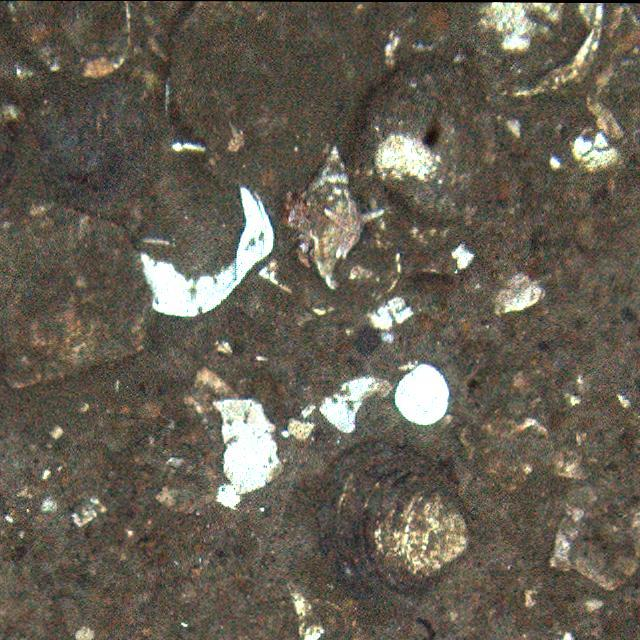whelk: (291, 145, 367, 288)
